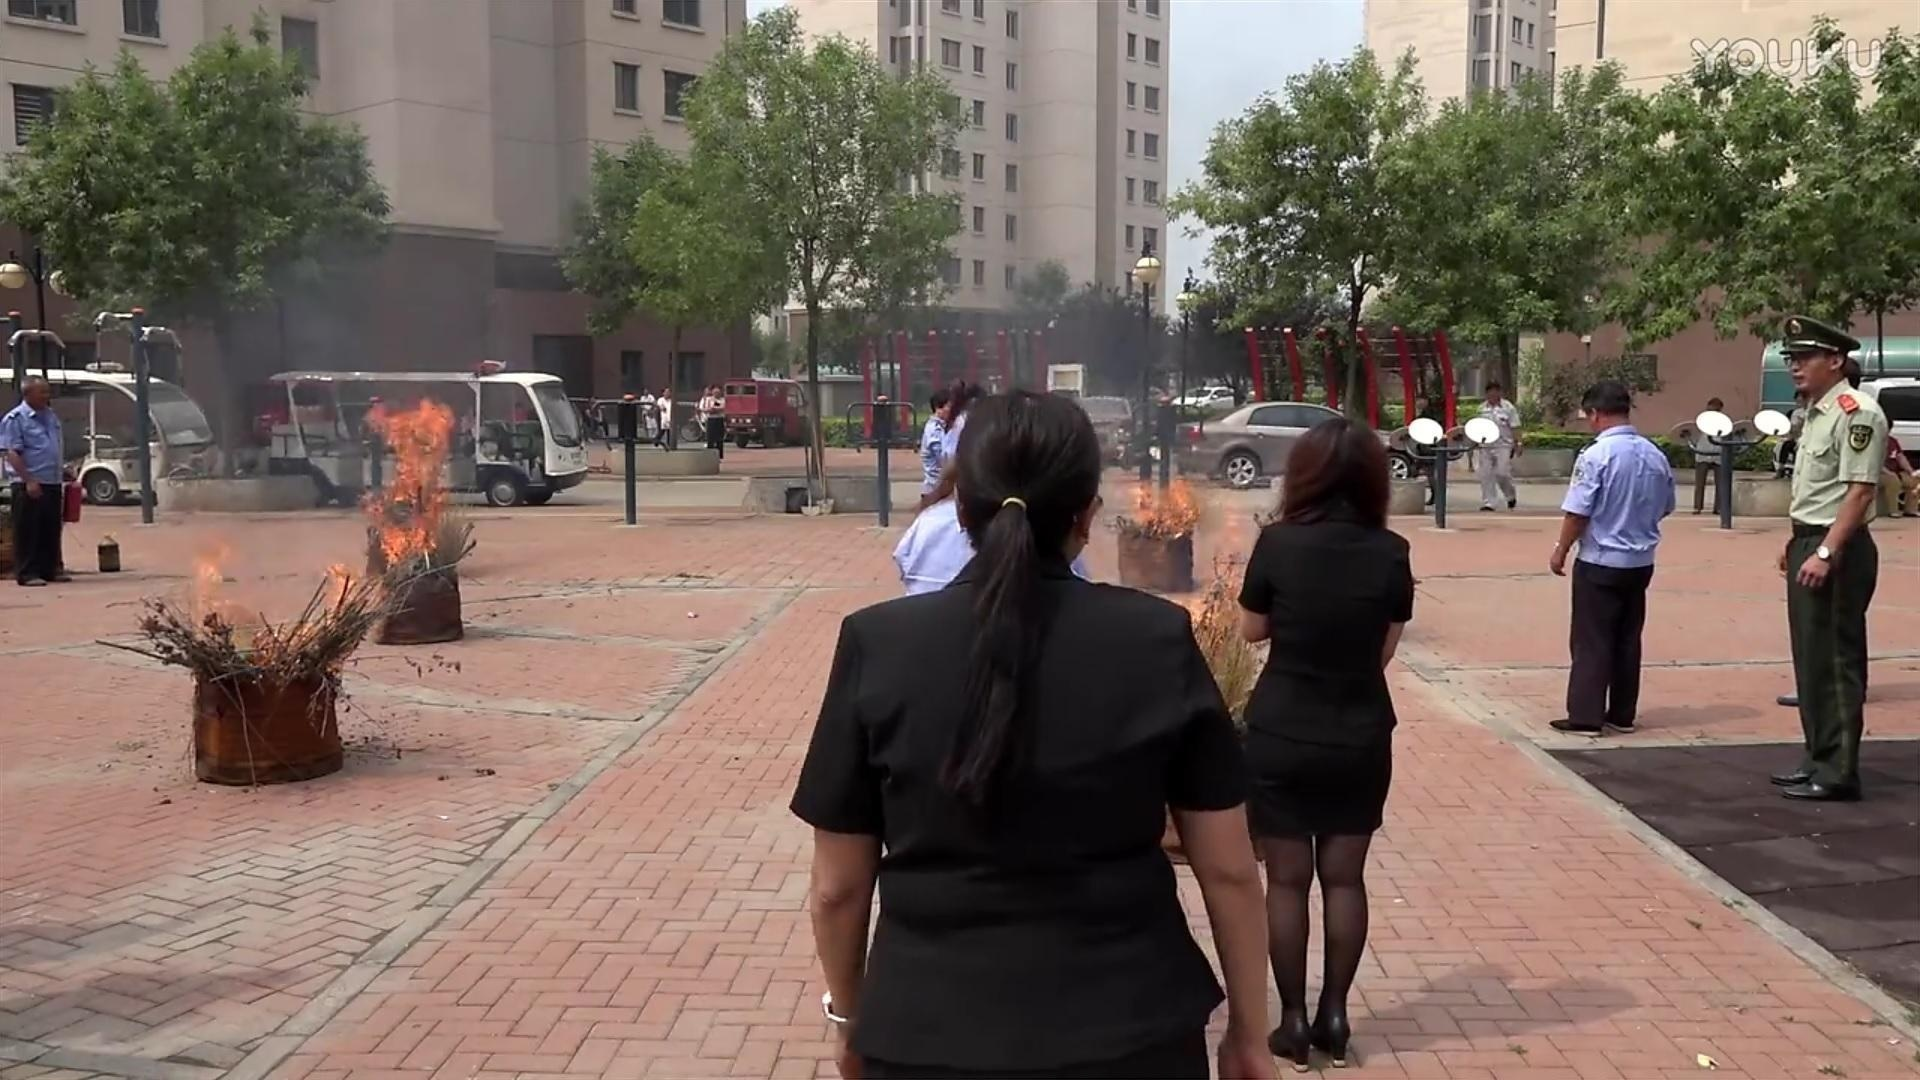fire: (363, 394, 454, 560), (1120, 468, 1197, 530)
